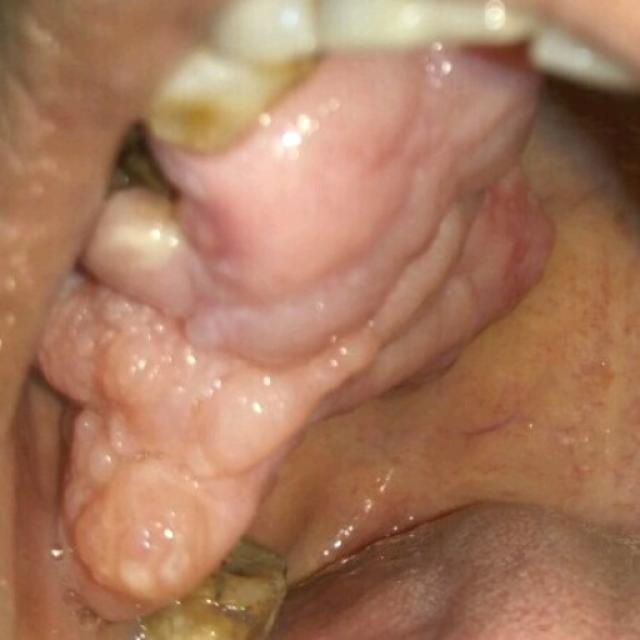cancer-detection: (38, 53, 560, 628)
processing_area: (12, 49, 639, 639)
